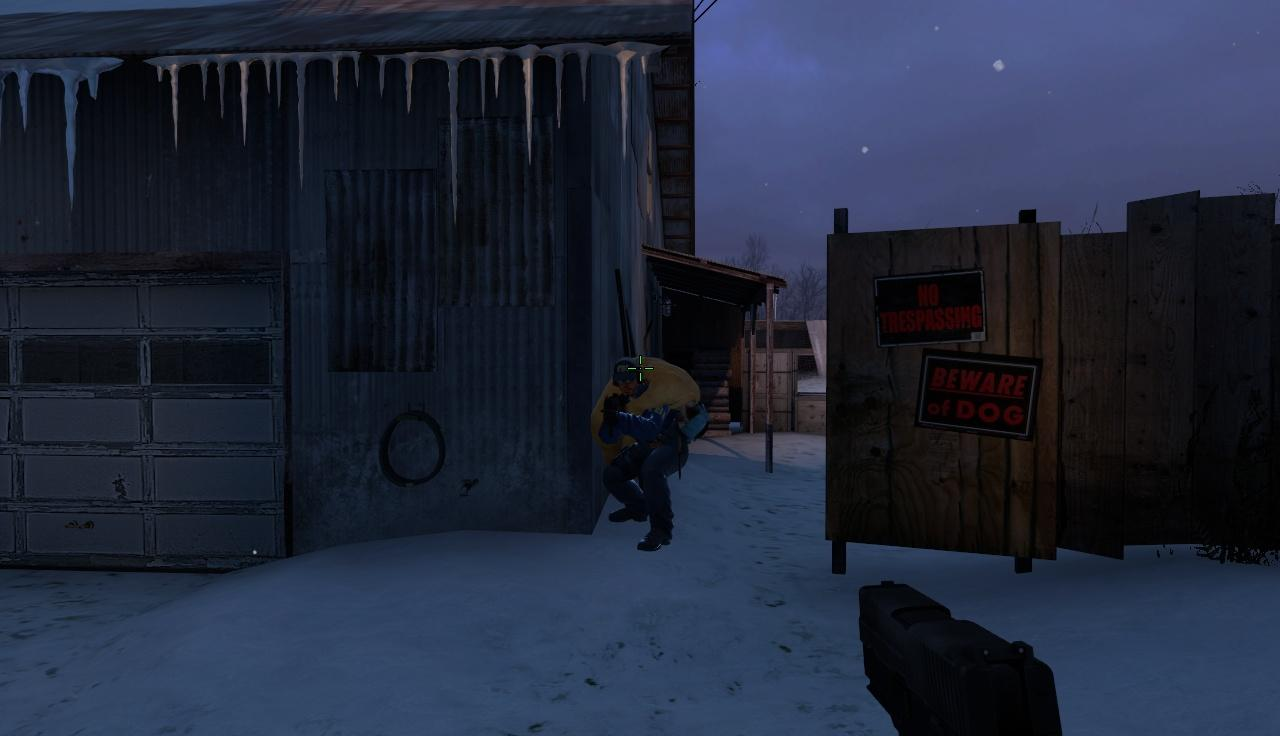ct: (600, 357, 689, 556)
cthead: (611, 360, 644, 393)
pistol: (853, 573, 1097, 734)
